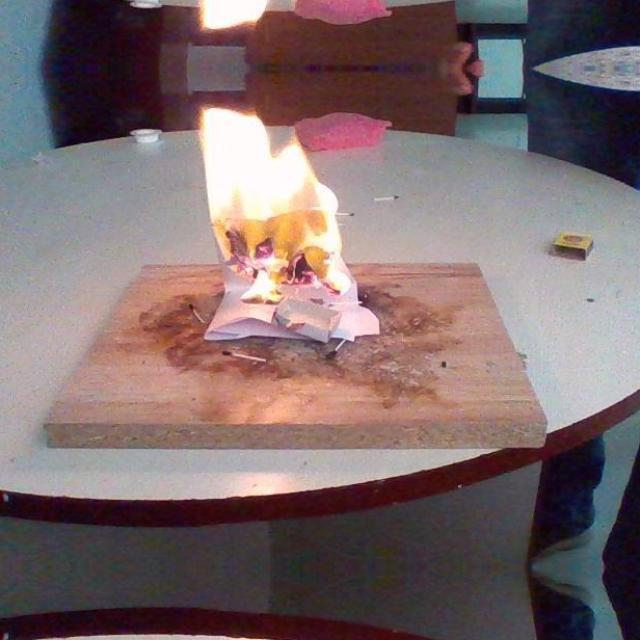smoke: (194, 103, 357, 300), (194, 0, 362, 33)
